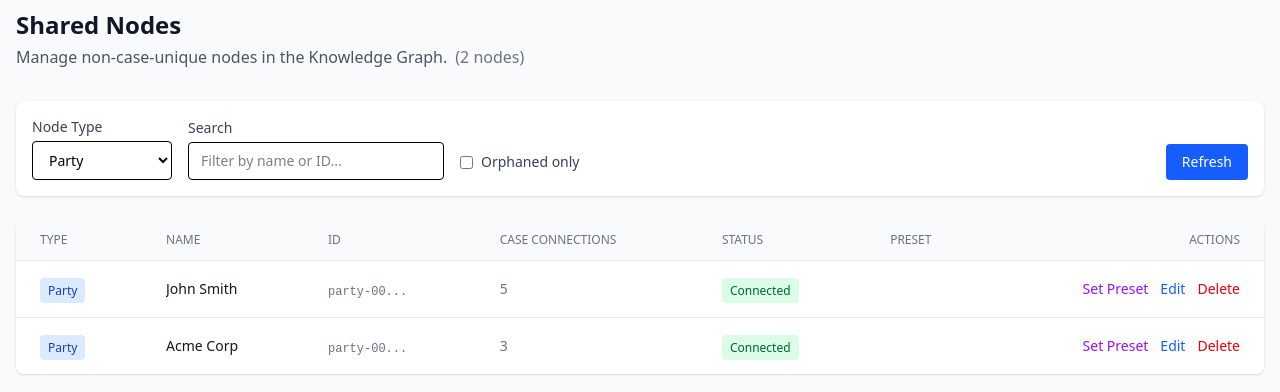
SharedNodesPage › Filtering › filters nodes by search query
This screenshot has width=1280, height=392.
Expected: the text "John Smith" is shown, [166,279,237,298]
Type "Acme" into the field with placeholder "Filter by name or ID...". click: point(316, 160)
box: [188,142,444,180]
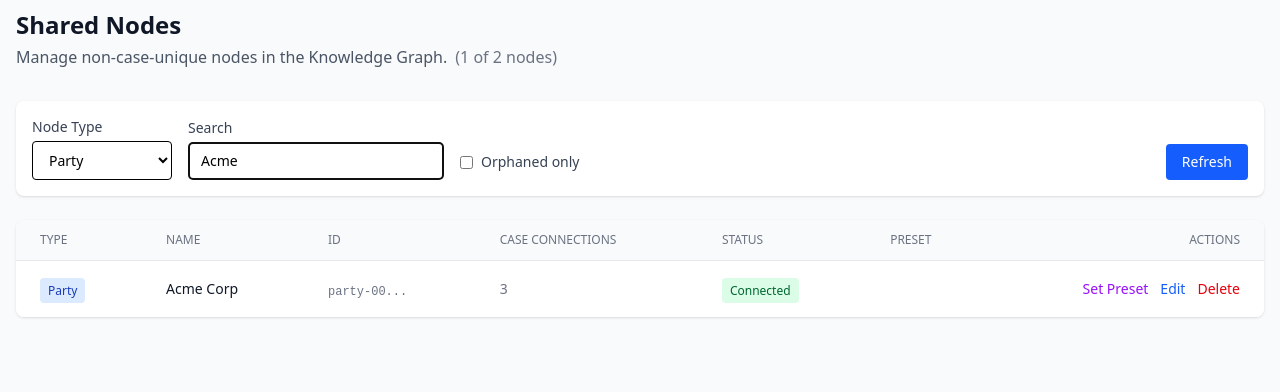
Expected: the text "Acme Corp" is shown, [166,279,238,298]
Expected: the text "John Smith" is gone
